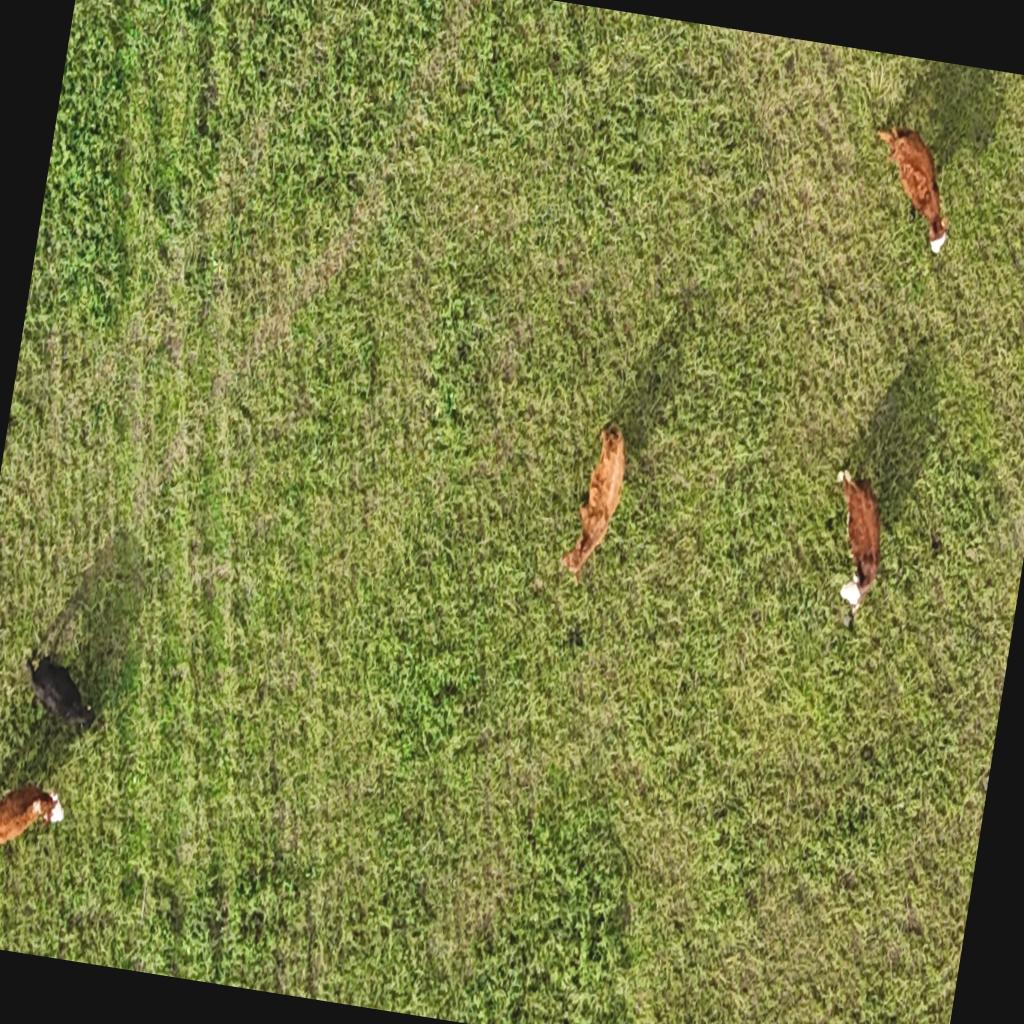cow: (554, 412, 636, 592), (860, 118, 964, 258), (815, 466, 895, 623), (10, 628, 114, 743), (0, 772, 68, 861)
